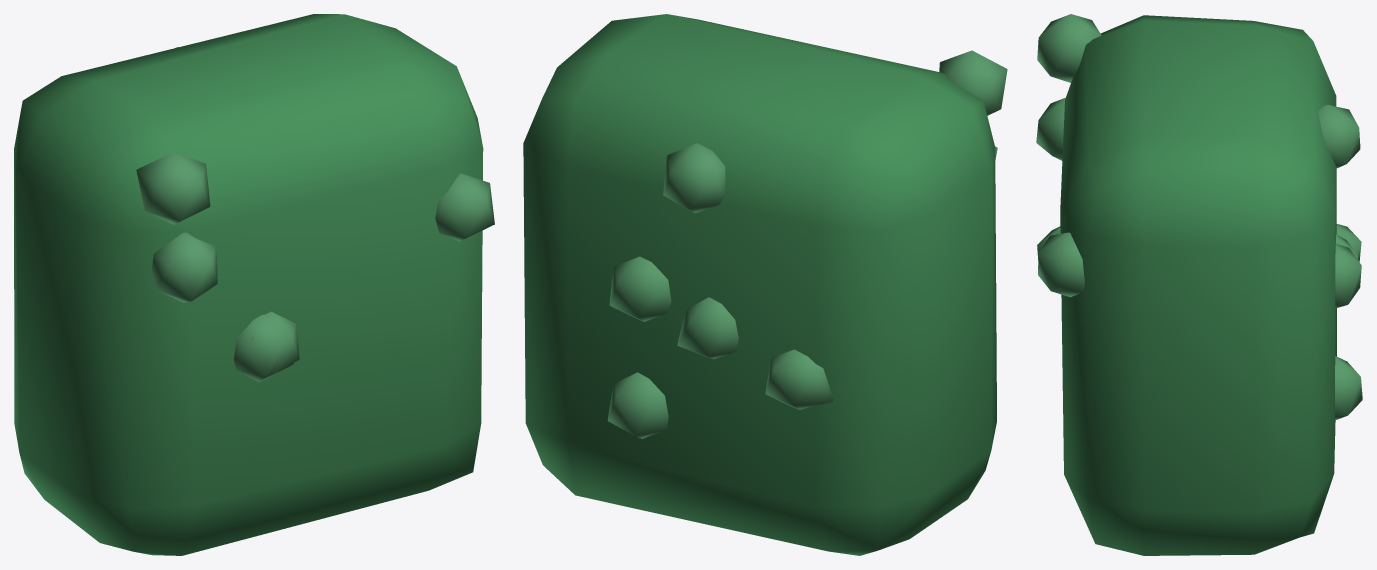
The model's file is hedge_box.glb.
3 views of the same model, side by side, from view 1: azimuth 30°, elevation 25°; view 2: azimuth 150°, elevation 25°; view 3: azimuth 270°, elevation 25° (orthographic). The views are drawn at different scales.
Visible parts, largest first — view 1: hedge_box; view 2: hedge_box; view 3: hedge_box.
Boxes of the visible parts, x1,y1,x2,y2 form: hedge_box: (14,14,494,555); hedge_box: (523,14,1007,555); hedge_box: (1036,14,1362,555).
Size of what is drawn, in the model's own units: 2.5 by 2.6 by 1.84.
